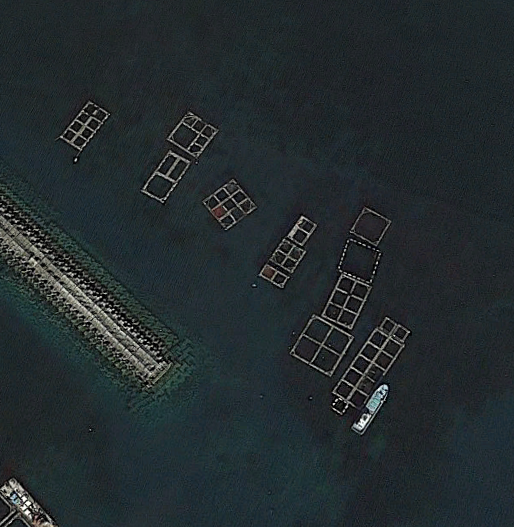ship: (342, 376, 397, 436)
square: (348, 200, 400, 248), (333, 238, 387, 283)
